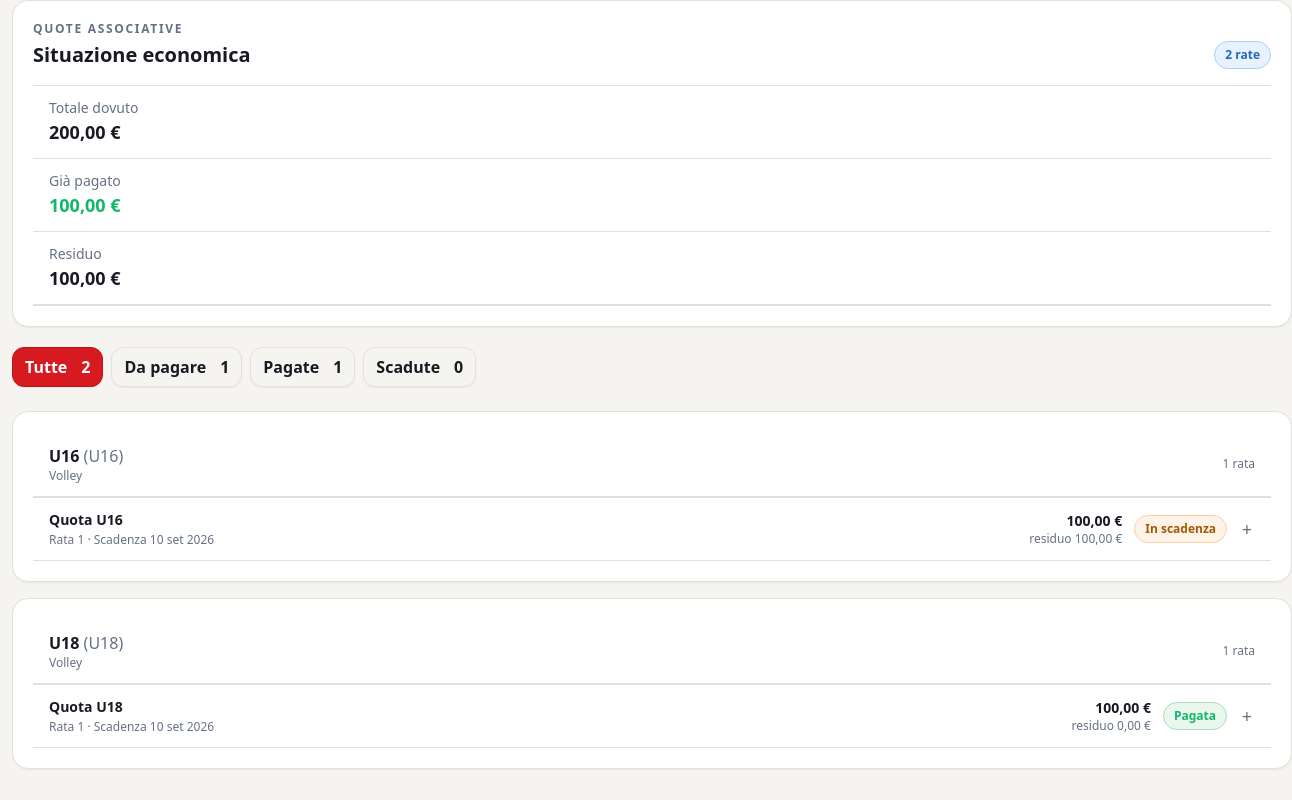
Test case: AthleteFeesManager › filters paid installments and exposes a filtered empty state
Expected: the heading "Situazione economica" is shown, [33,41,250,69]
Click the button "Pagate 1" at (303, 367), box [250,347,355,387]
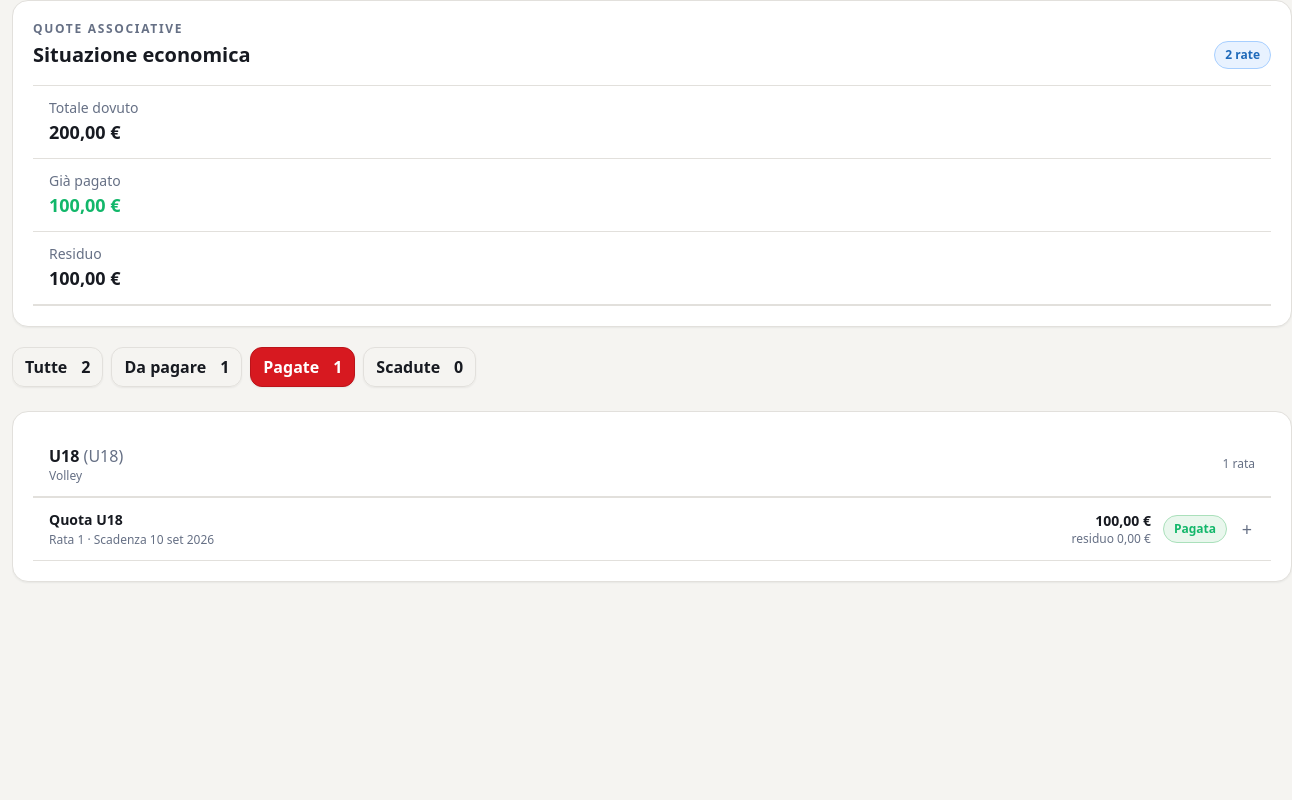
Expected: the heading "U18 (U18)" is shown, [49,444,123,468]
Now the text "U16" is gone
Click the button "Scadute 0" at (420, 367), box [363,347,476,387]
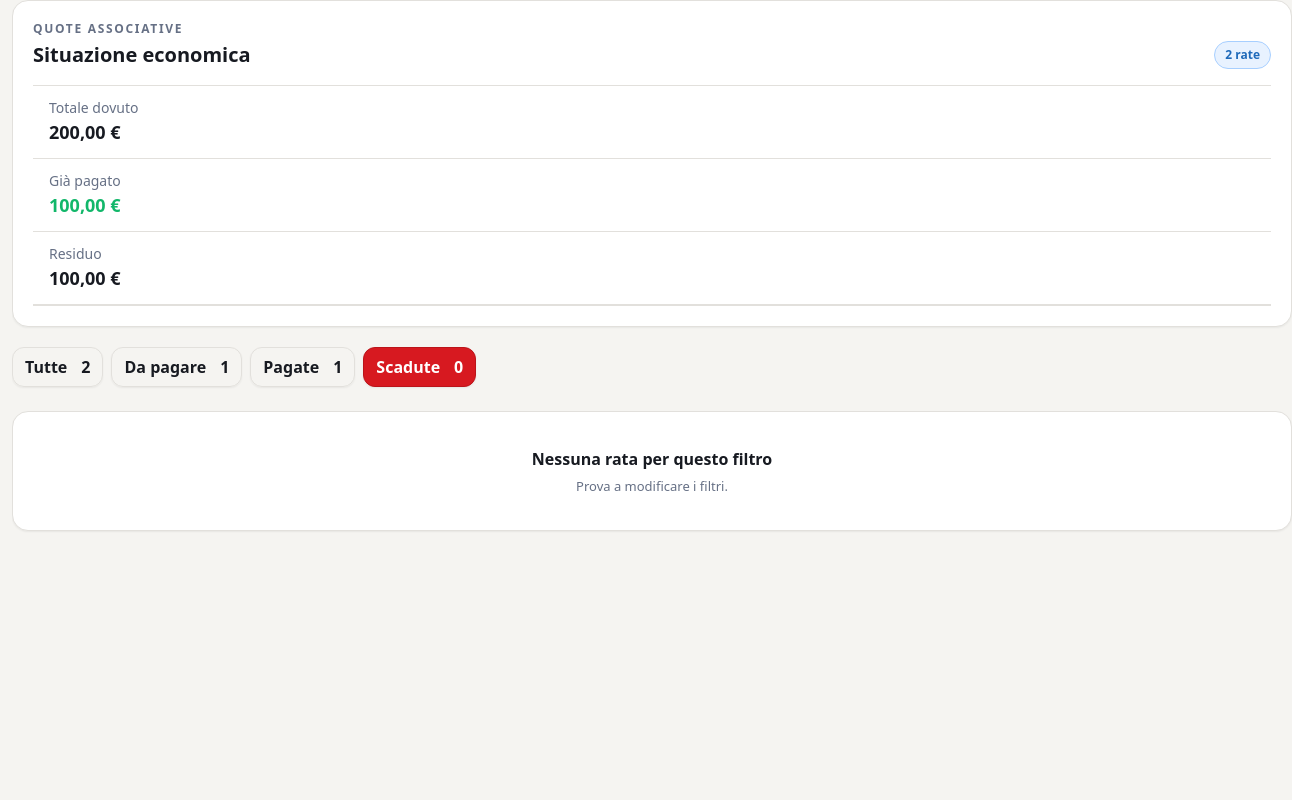
Now the text "Nessuna rata per questo filtro" is shown, box [532,447,772,471]
